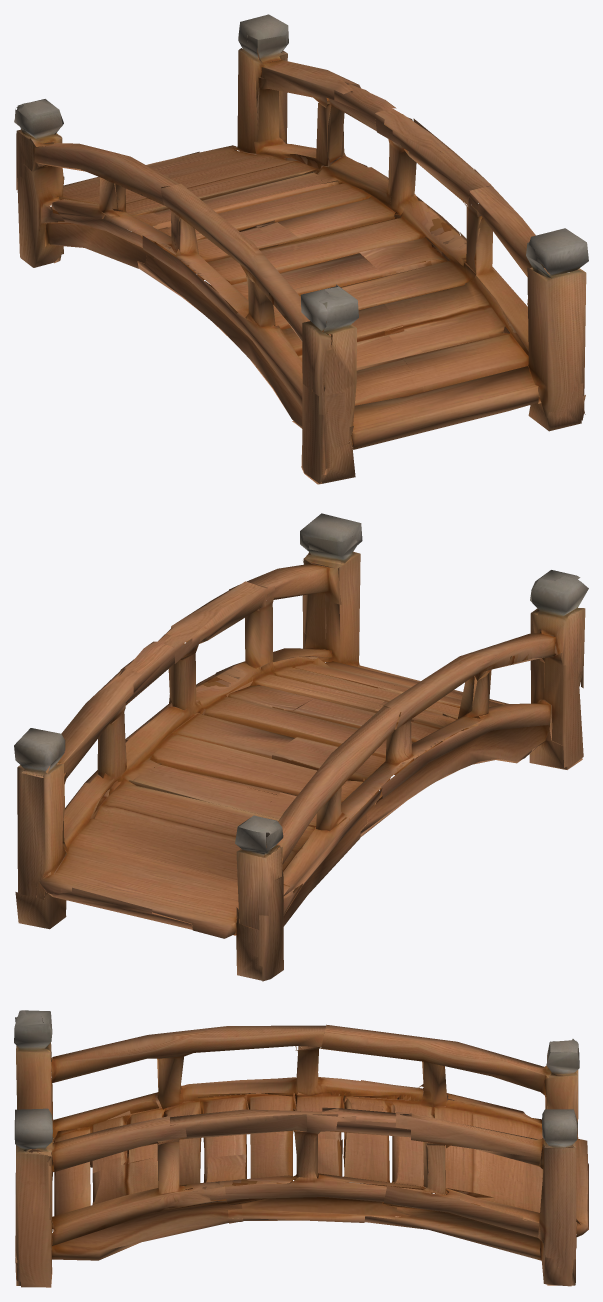
3 renders of one model, top to bottom at view 1: azimuth 30°, elevation 25°; view 2: azimuth 150°, elevation 25°; view 3: azimuth 270°, elevation 25°, orthographic. The views are drawn at different scales.
Parts seen in each view (by area): view 1: quad; view 2: quad; view 3: quad.
Part boxes in pixels (left/top/right/bottom): quad: left=14, top=14, right=588, bottom=484; quad: left=14, top=513, right=588, bottom=981; quad: left=14, top=1010, right=588, bottom=1287.
Bounding box in the file's own units: 292 × 196 × 600.
Materials: 1 (1 with a texture image).
